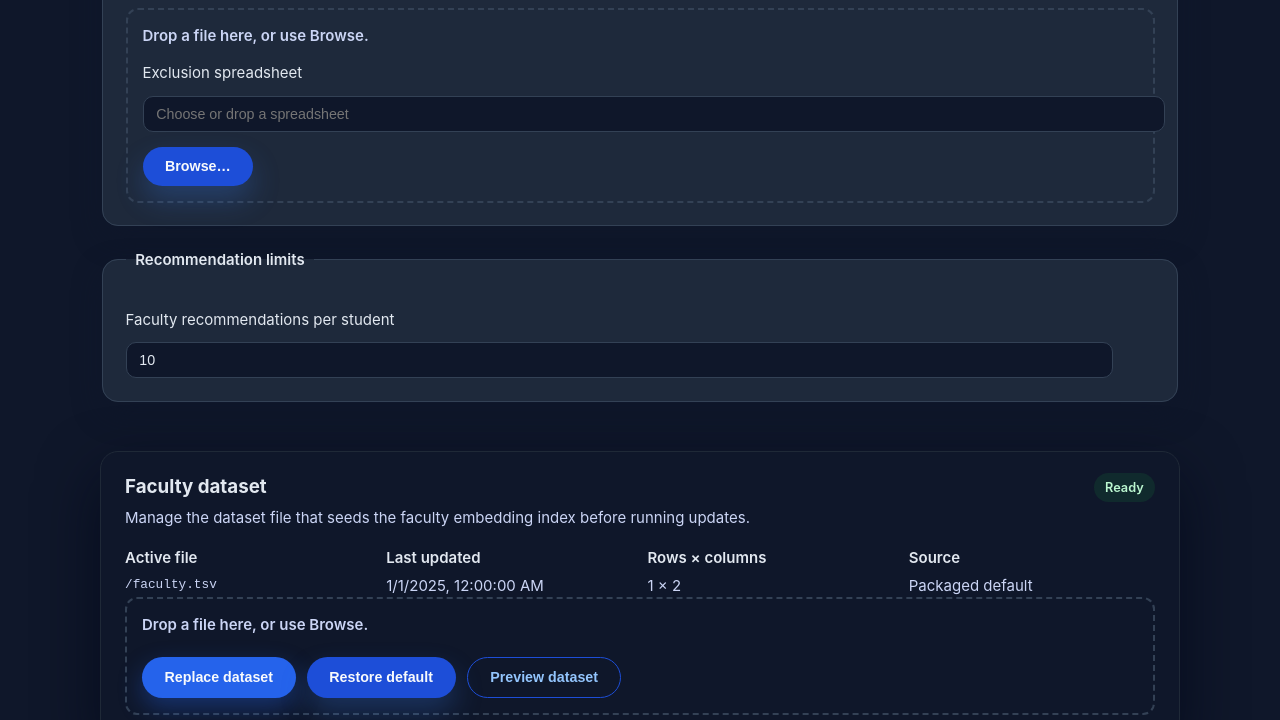
Test case: rejects fractional recommendation counts even when the form is submitted directly
(page scrolled)
Expected: the text "Ready" is shown, [1094,473,1155,502]
Replace the text in the number field labelled "Faculty recommendations per student" with "1.5" at (619, 360), box [126,342,1113,378]
(page scrolled)
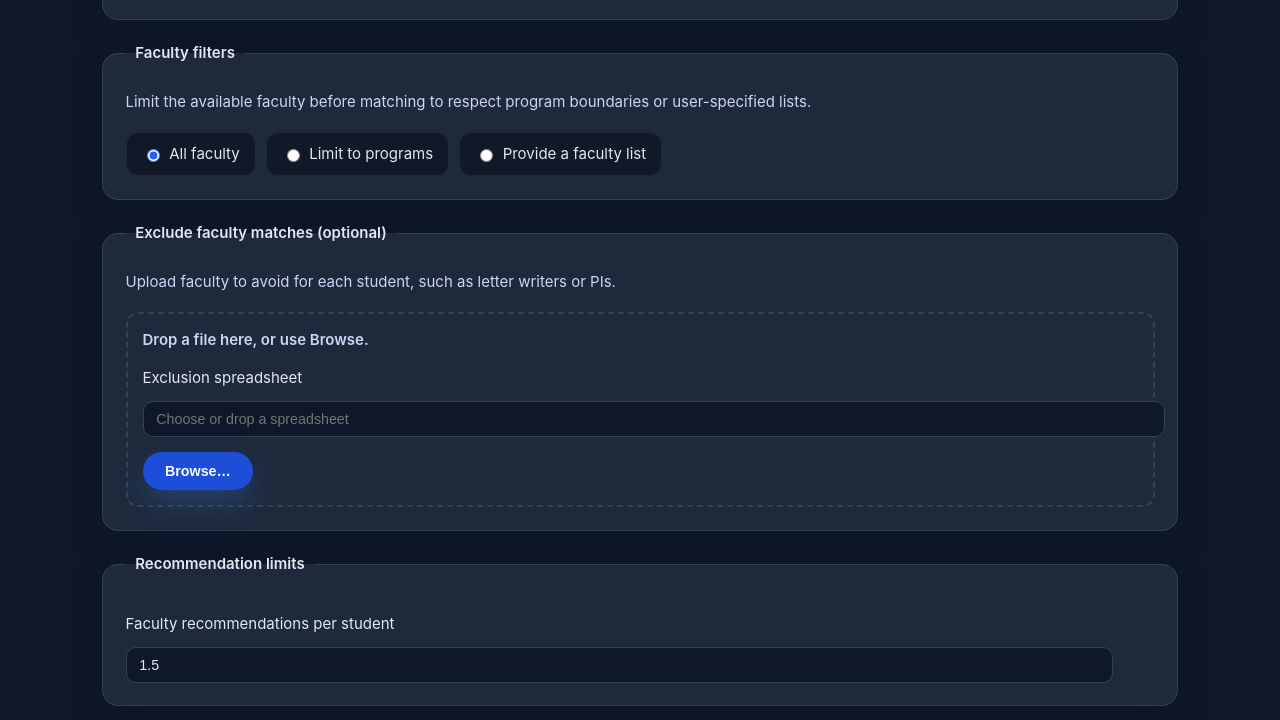
Submit the form named "Run matching"
(page scrolled)
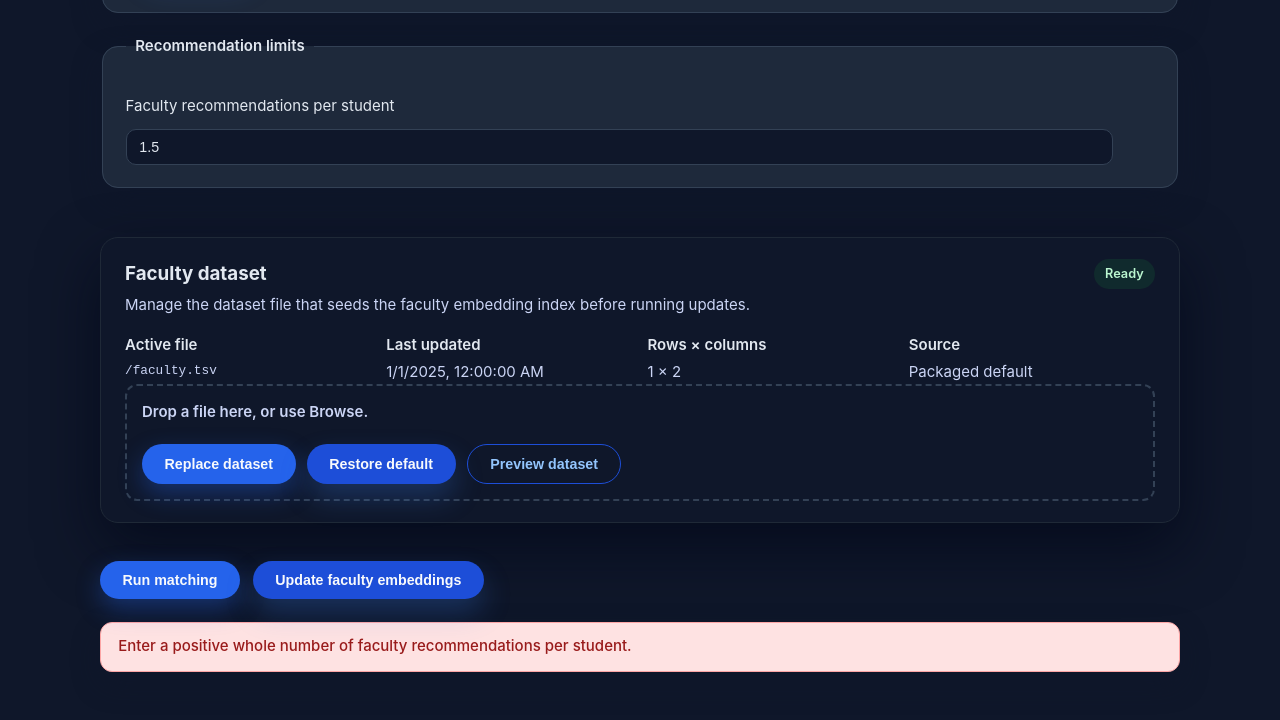
Expected: the message "Enter a positive whole number of faculty recommendations per student." is shown, [100,622,1180,672]
